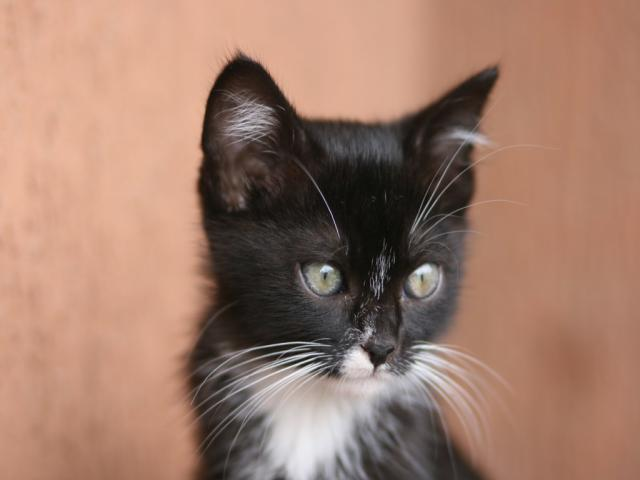Cat: (168, 39, 563, 480)
